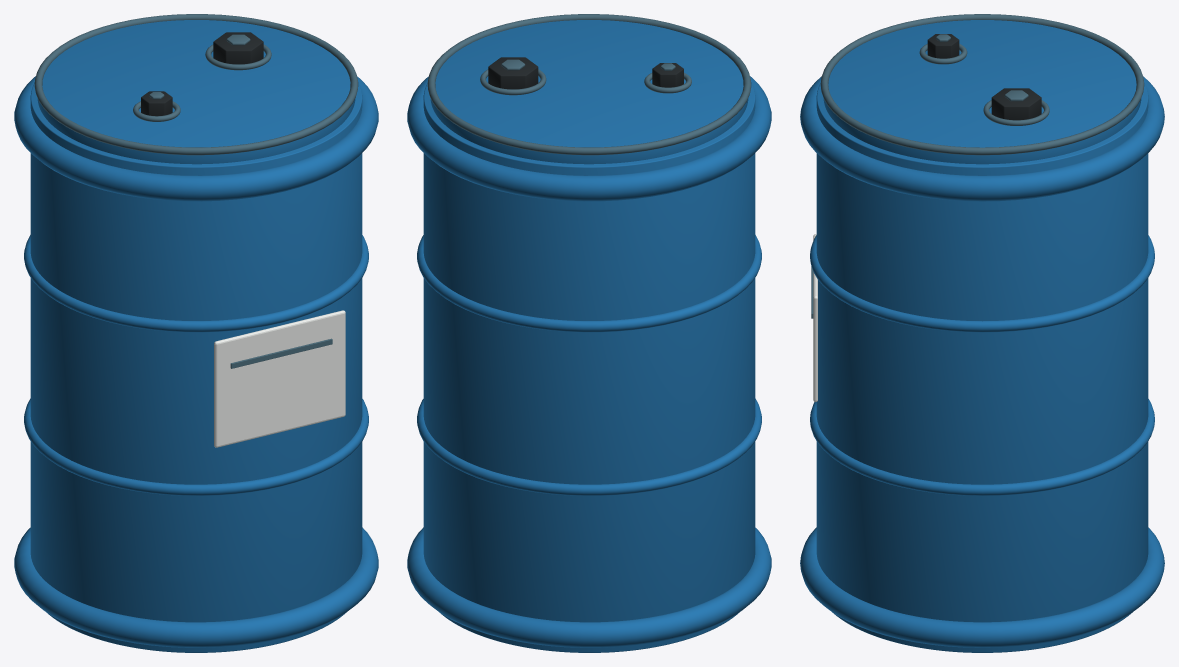
The model's file is steel_shipping_drum.glb.
3 views of the same model, side by side, from view 1: azimuth 30°, elevation 25°; view 2: azimuth 150°, elevation 25°; view 3: azimuth 270°, elevation 25° (orthographic).
Parts seen in each view (by area): view 1: DRUM_shell, DRUM_top_head, DRUM_label_panel, DRUM_chime_1.065, DRUM_chime_0.055, DRUM_top_seam, DRUM_rolling_hoop_0.38, DRUM_rolling_hoop_0.75, BUNG_large, DRUM_label_rule, BUNG_small, BUNG_large_collar; view 2: DRUM_shell, DRUM_top_head, DRUM_chime_1.065, DRUM_chime_0.055, DRUM_top_seam, DRUM_rolling_hoop_0.38, DRUM_rolling_hoop_0.75, BUNG_large, BUNG_small, BUNG_large_collar; view 3: DRUM_shell, DRUM_top_head, DRUM_chime_1.065, DRUM_chime_0.055, DRUM_top_seam, DRUM_rolling_hoop_0.75, DRUM_rolling_hoop_0.38, BUNG_large, BUNG_small, DRUM_label_panel, BUNG_large_collar.
Part boxes in pixels (x1,y1,x2,y2): DRUM_shell: (30, 82, 362, 652); DRUM_top_head: (37, 20, 355, 164); DRUM_label_panel: (214, 310, 345, 447); DRUM_chime_1.065: (14, 76, 378, 201); DRUM_chime_0.055: (14, 527, 378, 647); DRUM_top_seam: (34, 14, 358, 155); DRUM_rolling_hoop_0.38: (24, 398, 368, 495); DRUM_rolling_hoop_0.75: (24, 235, 368, 332); BUNG_large: (213, 32, 263, 64); DRUM_label_rule: (230, 338, 332, 368); BUNG_small: (141, 91, 172, 116); BUNG_large_collar: (205, 44, 271, 70); DRUM_shell: (423, 82, 755, 652); DRUM_top_head: (430, 20, 748, 164); DRUM_chime_1.065: (407, 76, 771, 201); DRUM_chime_0.055: (407, 527, 771, 647); DRUM_top_seam: (427, 14, 751, 155); DRUM_rolling_hoop_0.38: (417, 398, 761, 495); DRUM_rolling_hoop_0.75: (417, 235, 761, 332); BUNG_large: (488, 57, 538, 89); BUNG_small: (652, 63, 683, 87); BUNG_large_collar: (480, 69, 546, 95); DRUM_shell: (816, 83, 1148, 652); DRUM_top_head: (823, 20, 1141, 164); DRUM_chime_1.065: (800, 76, 1164, 201); DRUM_chime_0.055: (800, 527, 1164, 647); DRUM_top_seam: (820, 14, 1144, 155); DRUM_rolling_hoop_0.75: (810, 235, 1154, 332); DRUM_rolling_hoop_0.38: (810, 399, 1154, 495); BUNG_large: (991, 88, 1041, 120); BUNG_small: (927, 34, 959, 58); DRUM_label_panel: (813, 234, 817, 401); BUNG_large_collar: (983, 100, 1049, 125).
Bounding box in the file's own units: 0.748 × 1.17 × 0.748.
